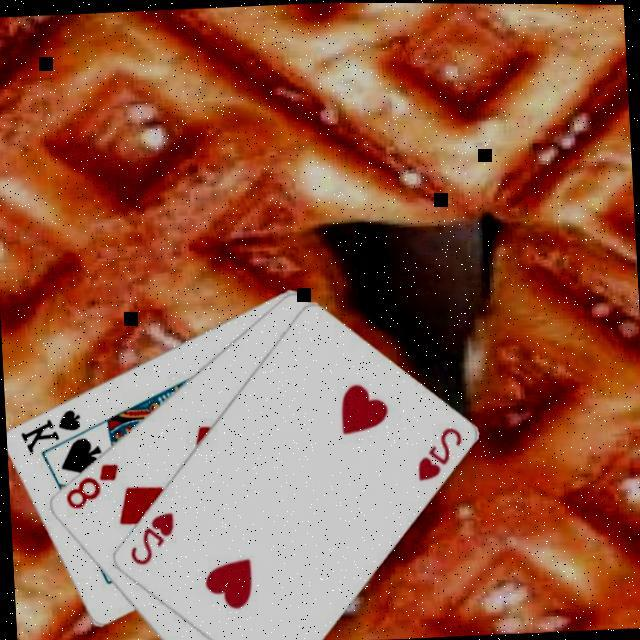2H: (409, 424, 465, 485), (122, 510, 177, 570)
8D: (58, 460, 122, 514)
KS: (13, 407, 83, 458)
